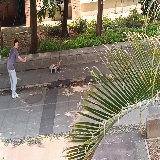fire: (55, 60, 61, 66)
